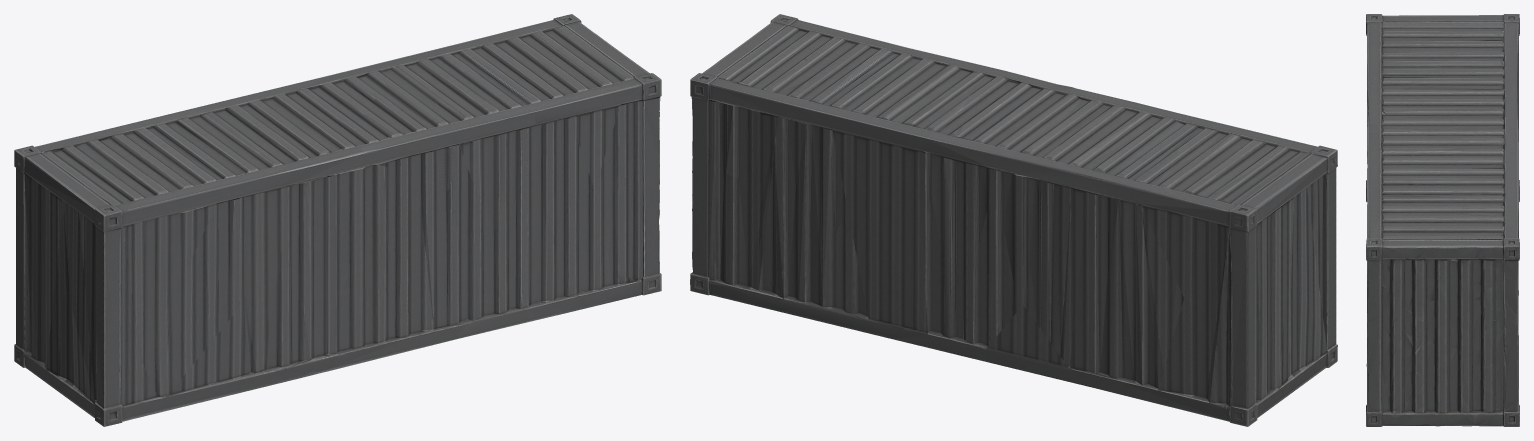
The model's file is container.glb.
3 renders of one model, left to right at view 1: azimuth 30°, elevation 25°; view 2: azimuth 150°, elevation 25°; view 3: azimuth 270°, elevation 25°, orthographic. The views are drawn at different scales.
Visible parts, largest first — view 1: output_unwrapped; view 2: output_unwrapped; view 3: output_unwrapped.
Part boxes in pixels (bbox=[...]): output_unwrapped: bbox=[14, 14, 661, 426]; output_unwrapped: bbox=[690, 14, 1337, 426]; output_unwrapped: bbox=[1366, 14, 1519, 426].
Bounding box in the file's own units: 1.9 × 0.692 × 0.5321.
Materials: 1 (1 with a texture image).
